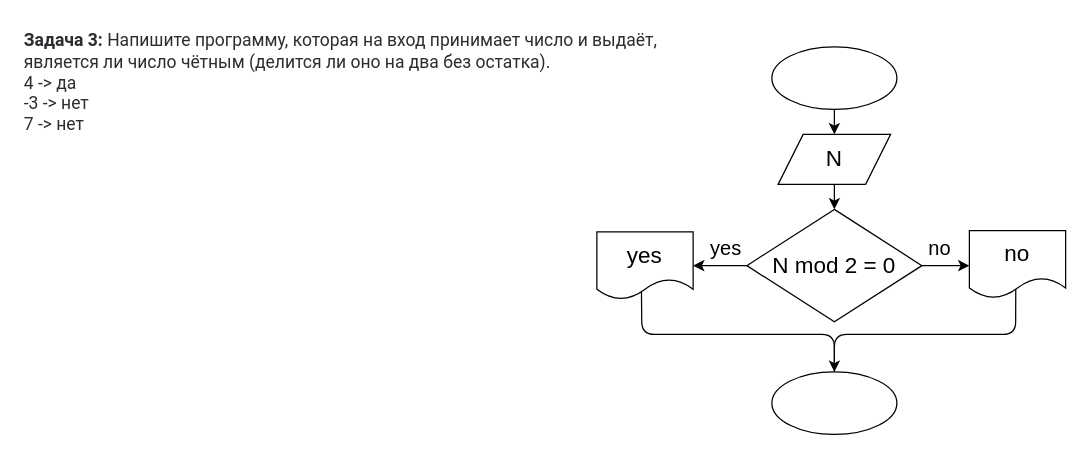
Some shapes in this 1088 by 456 pixel diagram are drawn without their labels. Each missing label, with the centre of its shape:
"end" belongs at (x=834, y=402).
"start" belongs at (x=834, y=77).
